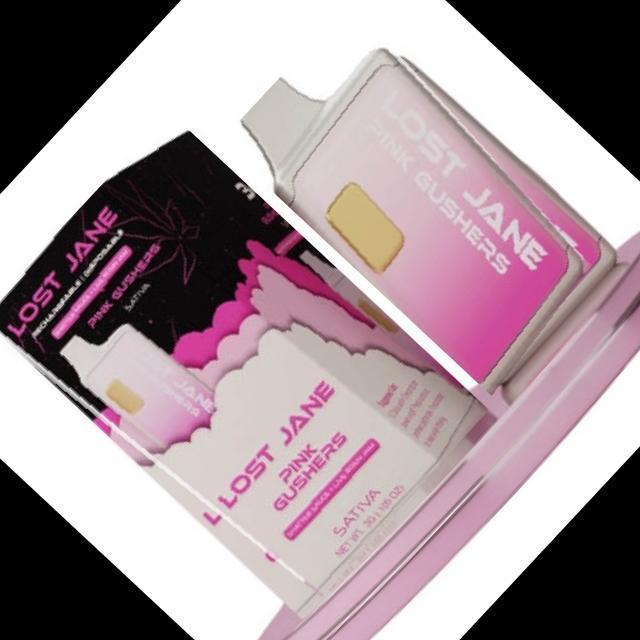Hazard: (0, 111, 493, 620), (219, 0, 626, 397)
